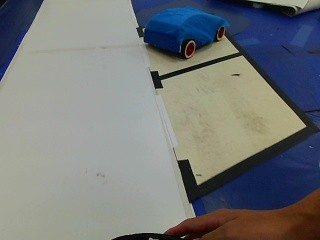car: (140, 4, 227, 59)
